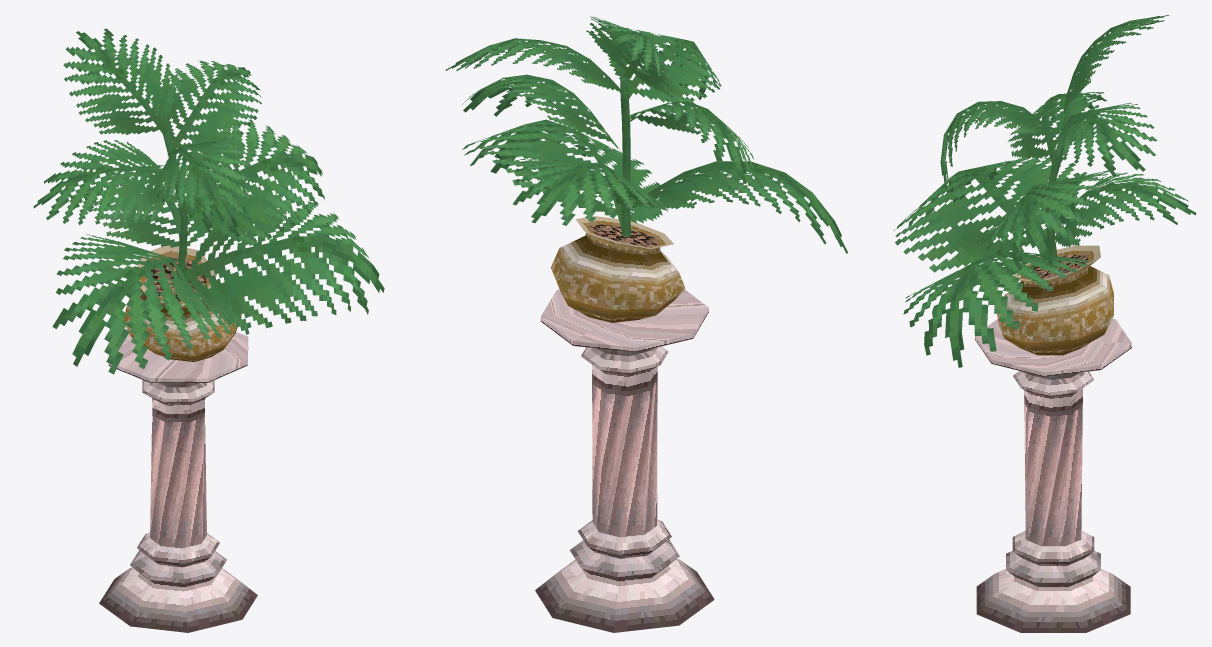
File: ueki.glb
3 views of the same model, side by side, from view 1: azimuth 30°, elevation 25°; view 2: azimuth 150°, elevation 25°; view 3: azimuth 270°, elevation 25° (orthographic). The views are drawn at different scales.
Parts seen in each view (by area): view 1: ueki; view 2: ueki; view 3: ueki.
Part boxes in pixels (x1,y1,x2,y2): ueki: [33, 28, 384, 632]; ueki: [445, 16, 847, 632]; ueki: [894, 15, 1196, 632].
Size of the model in its own units: 257 by 385 by 195.
5 materials, 5 textured.
